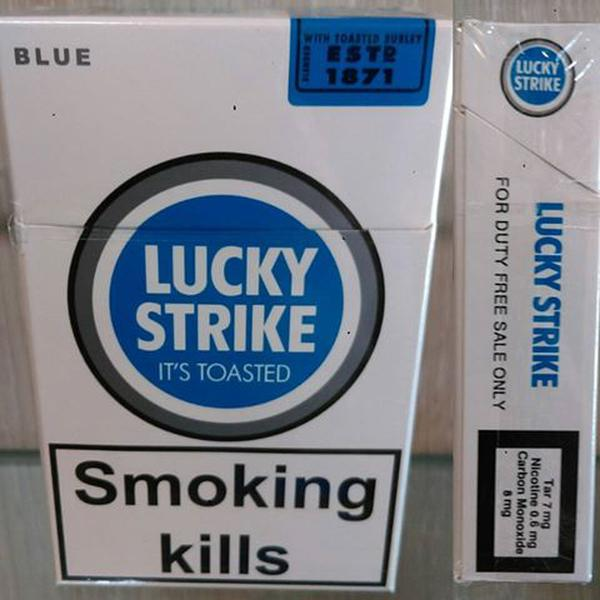lucky_strike_blue: (48, 24, 398, 586)
